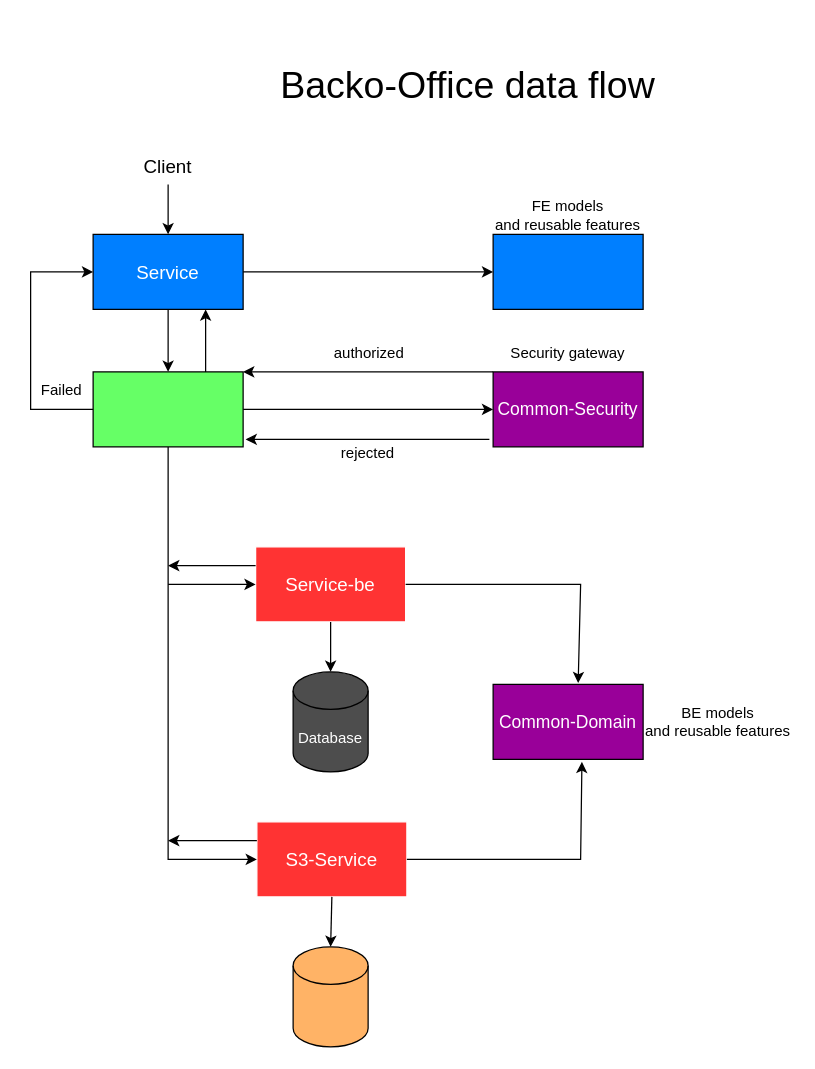
Some shapes in this 815 by 1069 pixel diagram are drawn without their labels. Here are the shapes that lost their labels. From the top down, the centre of each, then its label:
At point 567,271: "Common".
At point 167,409: "API-Gateway".
At point 330,996: "S3".
